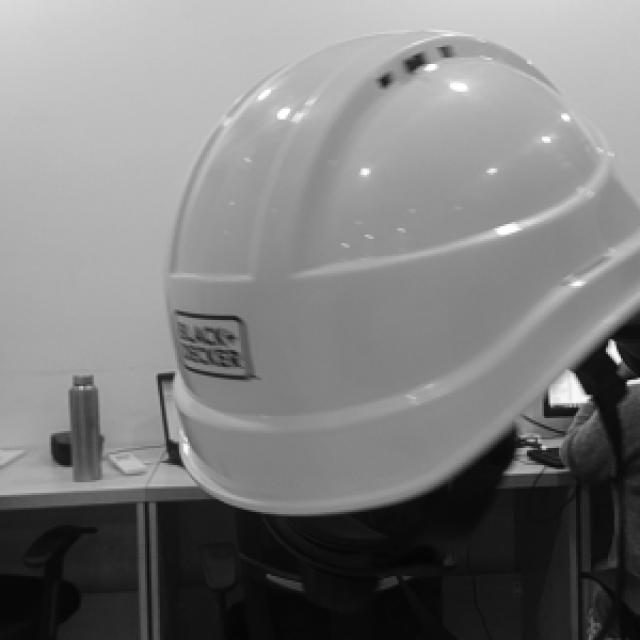safety_helmet: (164, 33, 640, 515)
